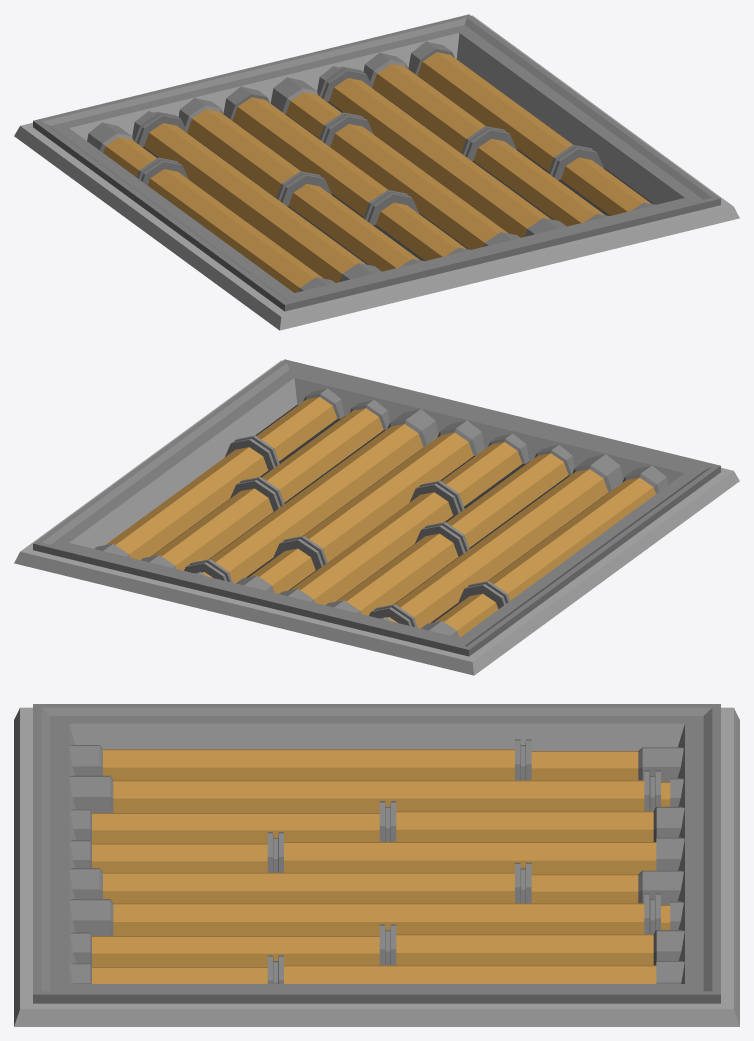
The model's file is RoofTile_Pipes2.gltf.
The picture shows the model from 3 angles, top to bottom: view 1: azimuth 30°, elevation 25°; view 2: azimuth 150°, elevation 25°; view 3: azimuth 270°, elevation 25°; orthographic projection. The views are drawn at different scales.
Parts seen in each view (by area): view 1: RoofTile_Pipes2; view 2: RoofTile_Pipes2; view 3: RoofTile_Pipes2.
Boxes of the visible parts, x1=… form: RoofTile_Pipes2: x1=14, y1=14, x2=739, y2=330; RoofTile_Pipes2: x1=14, y1=359, x2=739, y2=675; RoofTile_Pipes2: x1=14, y1=704, x2=739, y2=1026.
Bounding box in the file's own units: 2 × 0.1148 × 2.
